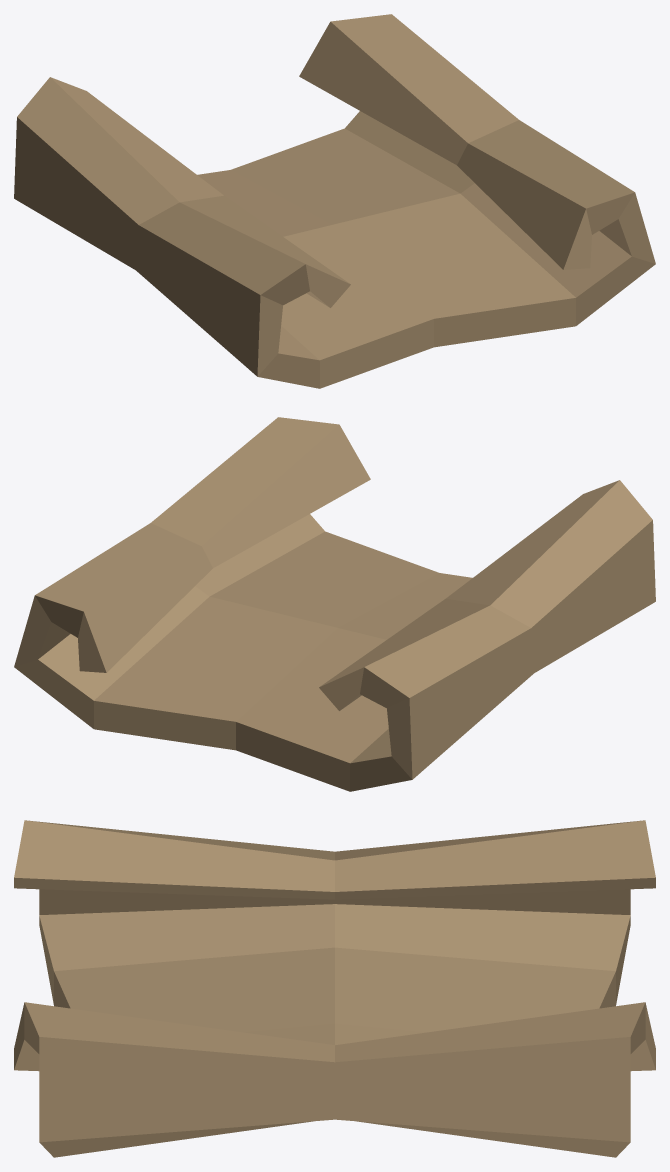
Rendered from SM_Item_Map_03.glb.
The picture shows the model from 3 angles, top to bottom: view 1: azimuth 30°, elevation 25°; view 2: azimuth 150°, elevation 25°; view 3: azimuth 270°, elevation 25°; orthographic projection. The views are drawn at different scales.
Parts seen in each view (by area): view 1: SM_Item_Map_03; view 2: SM_Item_Map_03; view 3: SM_Item_Map_03.
Part boxes in pixels (bbox=[...]): SM_Item_Map_03: bbox=[14, 14, 655, 388]; SM_Item_Map_03: bbox=[14, 417, 655, 791]; SM_Item_Map_03: bbox=[14, 820, 655, 1157].
Size of the model in its own units: 0.0038 by 0.00128 by 0.00436.
